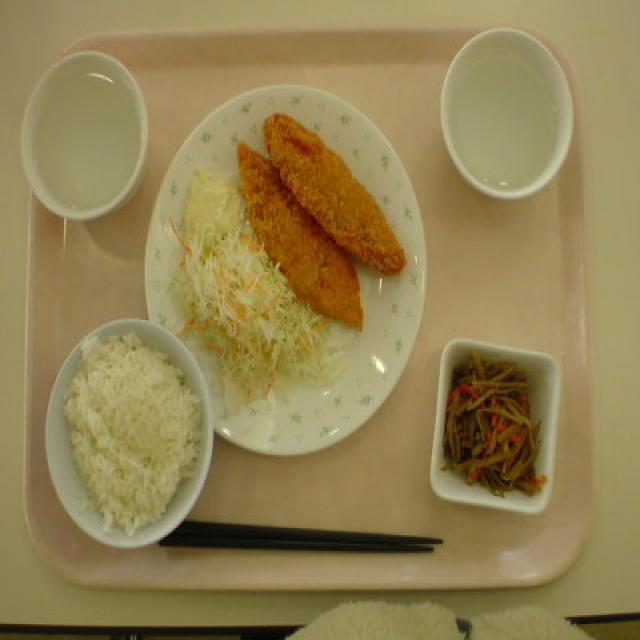Green Salad: (177, 188, 306, 392)
Rice: (61, 340, 199, 524)
